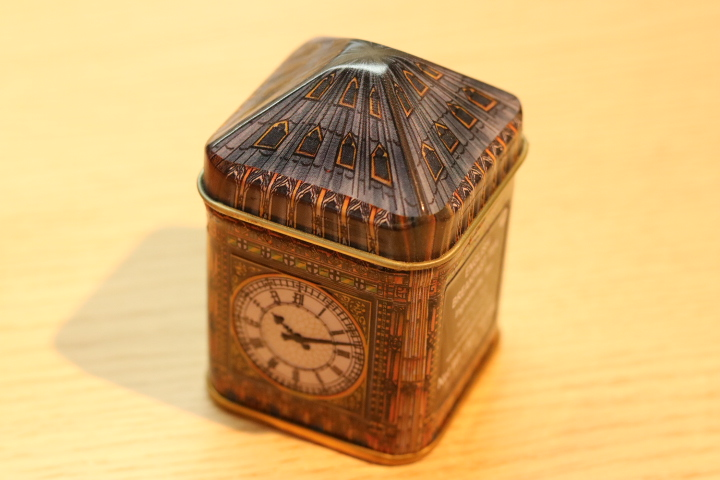Big Ben: (150, 18, 562, 472)
